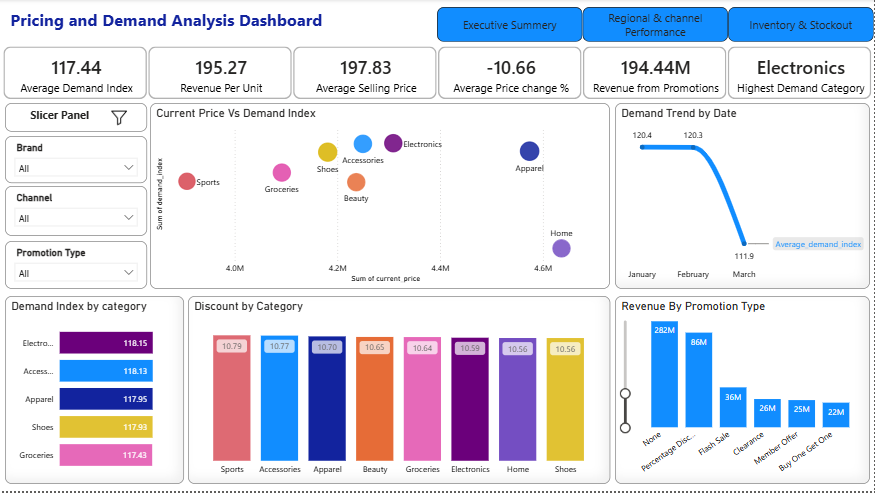

Layout of this report page (visuals, bound fields, positions):
{"tool":"powerbi","page":{"name":"Pricing & Demand Analysis","canvas":[1280,720],"ordinal":2},"visuals":[{"type":"pageNavigator","box":[639.5,11.7,641,51.2],"z":0},{"type":"textbox","box":[0,0,629.3,62.9],"z":1000},{"type":"cardVisual","fields":{"Data":["retail_pricing_demand_100k.Average_demand_index","retail_pricing_demand_100k.Revenue_per_unit","retail_pricing_demand_100k.Average Selling Price","retail_pricing_demand_100k.Average Price change PCT","retail_pricing_demand_100k.Promo Revenue","retail_pricing_demand_100k.Top Category by Demand"]},"box":[0,64.4,1280.5,87.8],"z":2000},{"type":"scatterChart","title":"Current Price Vs Demand Index","fields":{"X":["Sum(retail_pricing_demand_100k.current_price)"],"Y":["Sum(retail_pricing_demand_100k.demand_index)"],"Series":["retail_pricing_demand_100k.category"],"Size":["Sum(retail_pricing_demand_100k.revenue)"]},"box":[219.5,152.2,673.2,272.2],"z":3000},{"type":"lineChart","title":" Demand Trend by Date","fields":{"Category":["Custom calendar.Custom date.Variation.Date Hierarchy.Month"],"Y":["retail_pricing_demand_100k.Average_demand_index"]},"box":[900,152.2,373.2,272.2],"z":4000},{"type":"columnChart","title":"Revenue By Promotion Type","fields":{"Category":["retail_pricing_demand_100k.promotion_type"],"Y":["Sum(retail_pricing_demand_100k.revenue)"]},"box":[900,434.6,373.2,275.1],"z":5000},{"type":"clusteredBarChart","title":"Demand Index  by category","fields":{"Category":["retail_pricing_demand_100k.category"],"Y":["retail_pricing_demand_100k.Average_demand_index"]},"box":[7.3,434.6,262,275.1],"z":6000},{"type":"lineStackedColumnComboChart","title":"Discount by Category","fields":{"Category":["retail_pricing_demand_100k.category"],"Y":["retail_pricing_demand_100k.Average_discunt_pct"]},"box":[275.1,434.6,617.6,275.1],"z":7000},{"type":"textbox","box":[7.3,152.2,207.8,42.4],"z":8000},{"type":"image","box":[144.9,162.4,58.5,23.4],"z":9000},{"type":"slicer","fields":{"Values":["retail_pricing_demand_100k.brand"]},"box":[7.3,200.5,207.8,68.8],"z":10000},{"type":"slicer","fields":{"Values":["retail_pricing_demand_100k.channel"]},"box":[7.3,273.7,207.8,73.2],"z":11000},{"type":"slicer","fields":{"Values":["retail_pricing_demand_100k.promotion_type"]},"box":[7.3,354.1,207.8,70.2],"z":12000}]}

Visuals, with their boxes in screenshot pixels (x1, y1, x2, y2), scaled from the page's 1280x720 canvas onto the 875x495 screenshot:
pageNavigator: l=437, t=8, r=874, b=43
textbox: l=0, t=0, r=430, b=43
cardVisual - retail_pricing_demand_100k.Average_demand_index x retail_pricing_demand_100k.Revenue_per_unit: l=0, t=44, r=874, b=105
"Current Price Vs Demand Index" scatterChart: l=150, t=105, r=610, b=292
" Demand Trend by Date" lineChart: l=615, t=105, r=870, b=292
"Revenue By Promotion Type" columnChart: l=615, t=299, r=870, b=488
"Demand Index  by category" clusteredBarChart: l=5, t=299, r=184, b=488
"Discount by Category" lineStackedColumnComboChart: l=188, t=299, r=610, b=488
textbox: l=5, t=105, r=147, b=134
image: l=99, t=112, r=139, b=128
slicer - retail_pricing_demand_100k.brand: l=5, t=138, r=147, b=185
slicer - retail_pricing_demand_100k.channel: l=5, t=188, r=147, b=238
slicer - retail_pricing_demand_100k.promotion_type: l=5, t=243, r=147, b=292
